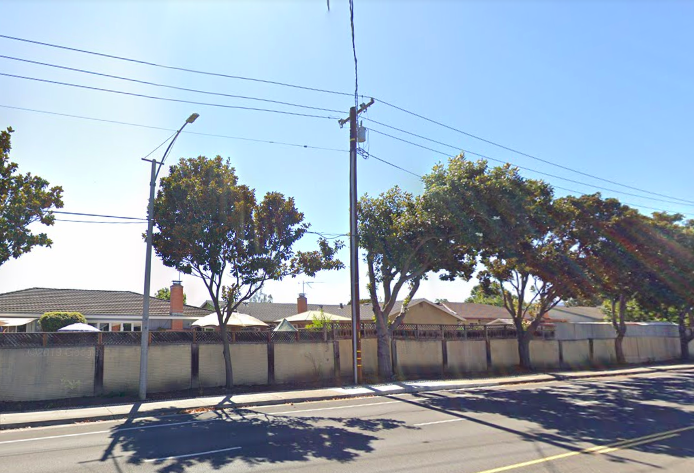tree: (143, 153, 345, 393)
utility_pole: (329, 89, 380, 168)
